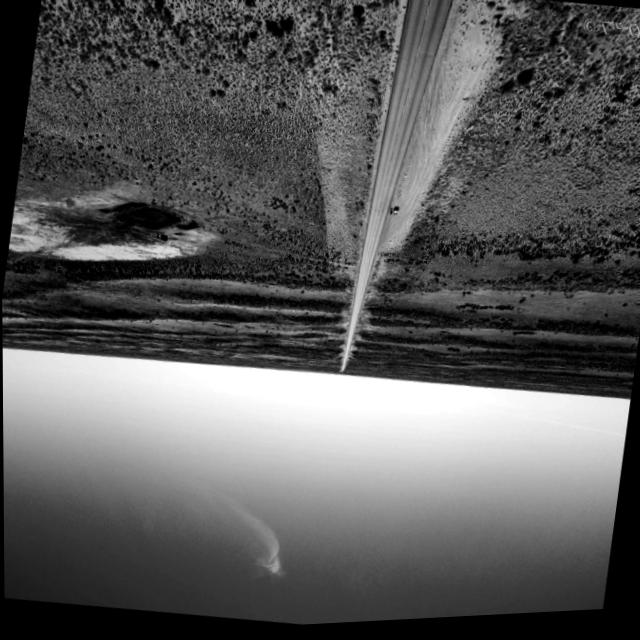cleat: (271, 0, 536, 425)
